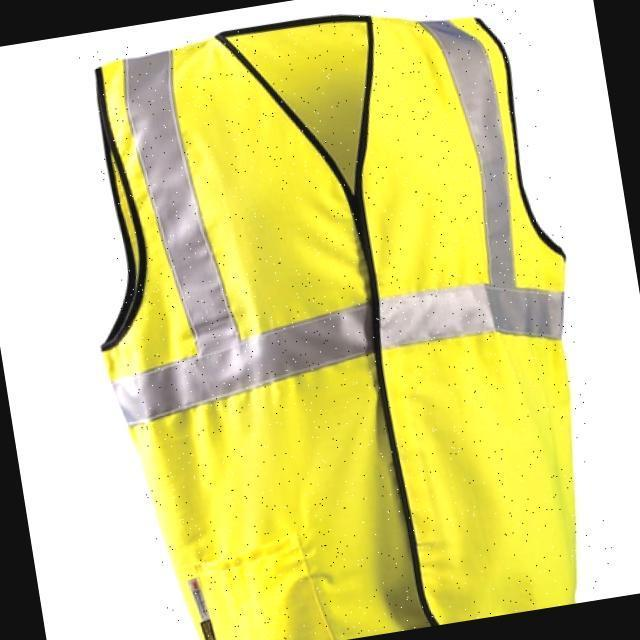vest: (75, 0, 620, 640)
